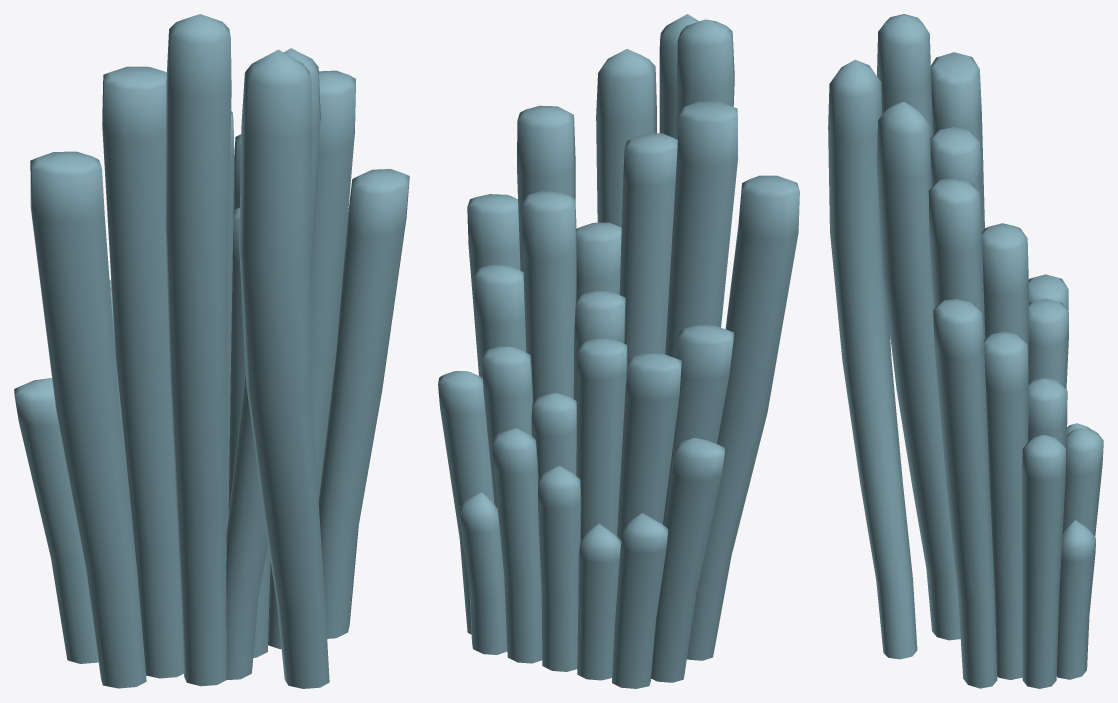
Rendered from geo_obstacle_medium4.fbx.
The picture shows the model from 3 angles, left to right: view 1: azimuth 30°, elevation 25°; view 2: azimuth 150°, elevation 25°; view 3: azimuth 270°, elevation 25°; orthographic projection. The views are drawn at different scales.
Parts seen in each view (by area): view 1: Tubular; view 2: Tubular; view 3: Tubular.
Part boxes in pixels (bbox=[...]): Tubular: bbox=[14, 14, 409, 688]; Tubular: bbox=[438, 14, 799, 688]; Tubular: bbox=[828, 14, 1103, 688].
Size of the model in its own units: 824 by 1436 by 606.
